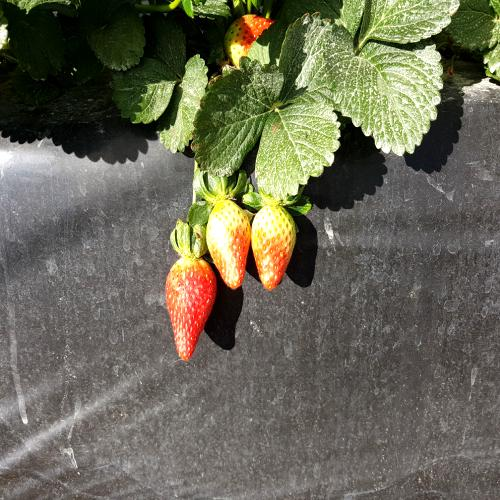partially-ripe: (160, 252, 218, 360), (209, 193, 254, 293), (252, 204, 300, 293), (226, 10, 281, 68)
